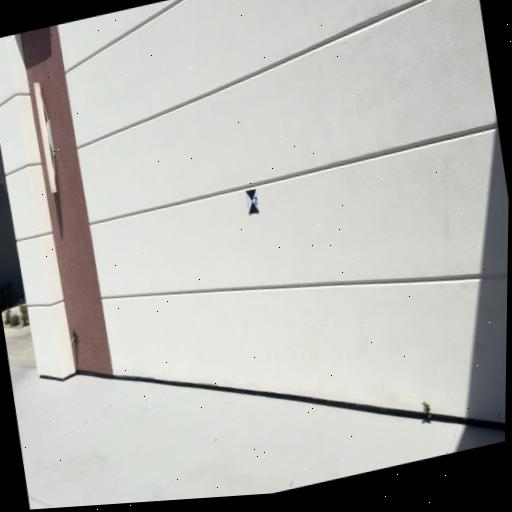target7: (245, 189, 259, 214)
